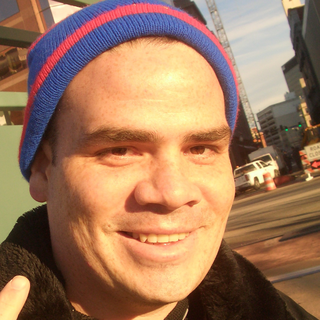eye: (93, 138, 146, 163), (180, 136, 222, 162)
